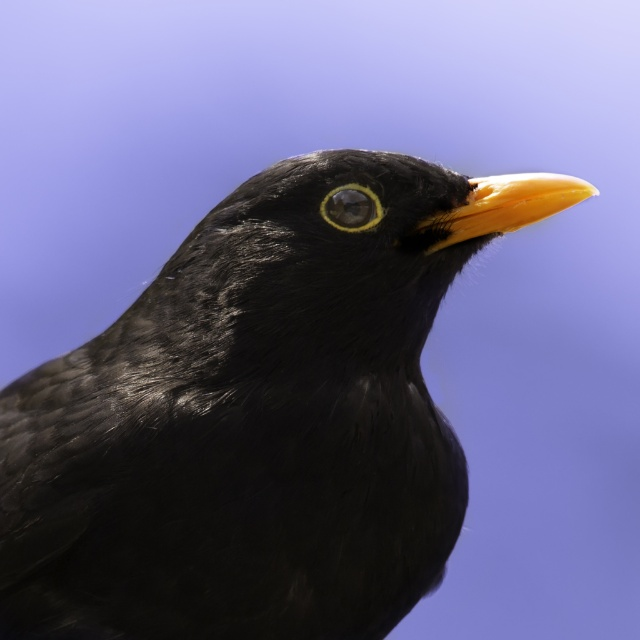Raven: (27, 147, 591, 630)
